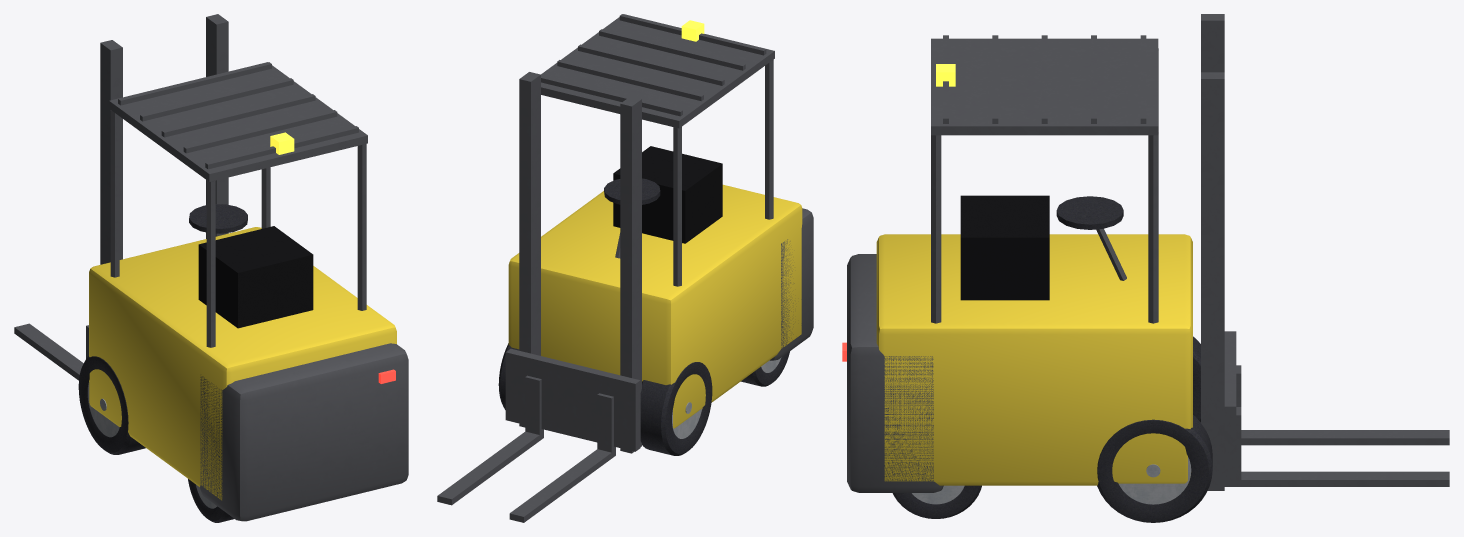
Rendered from forklift_yellow.gltf.
The picture shows the model from 3 angles, left to right: view 1: azimuth 30°, elevation 25°; view 2: azimuth 150°, elevation 25°; view 3: azimuth 270°, elevation 25°; orthographic projection. The views are drawn at different scales.
Visible parts, largest first — view 1: forklift_yellow; view 2: forklift_yellow; view 3: forklift_yellow.
Part boxes in pixels (x1,y1,x2,y2): forklift_yellow: (14,14,408,522); forklift_yellow: (437,14,813,522); forklift_yellow: (842,14,1449,522).
Bounding box in the file's own units: 1.16 × 2.4 × 3.07.
10 materials, 6 textured.
